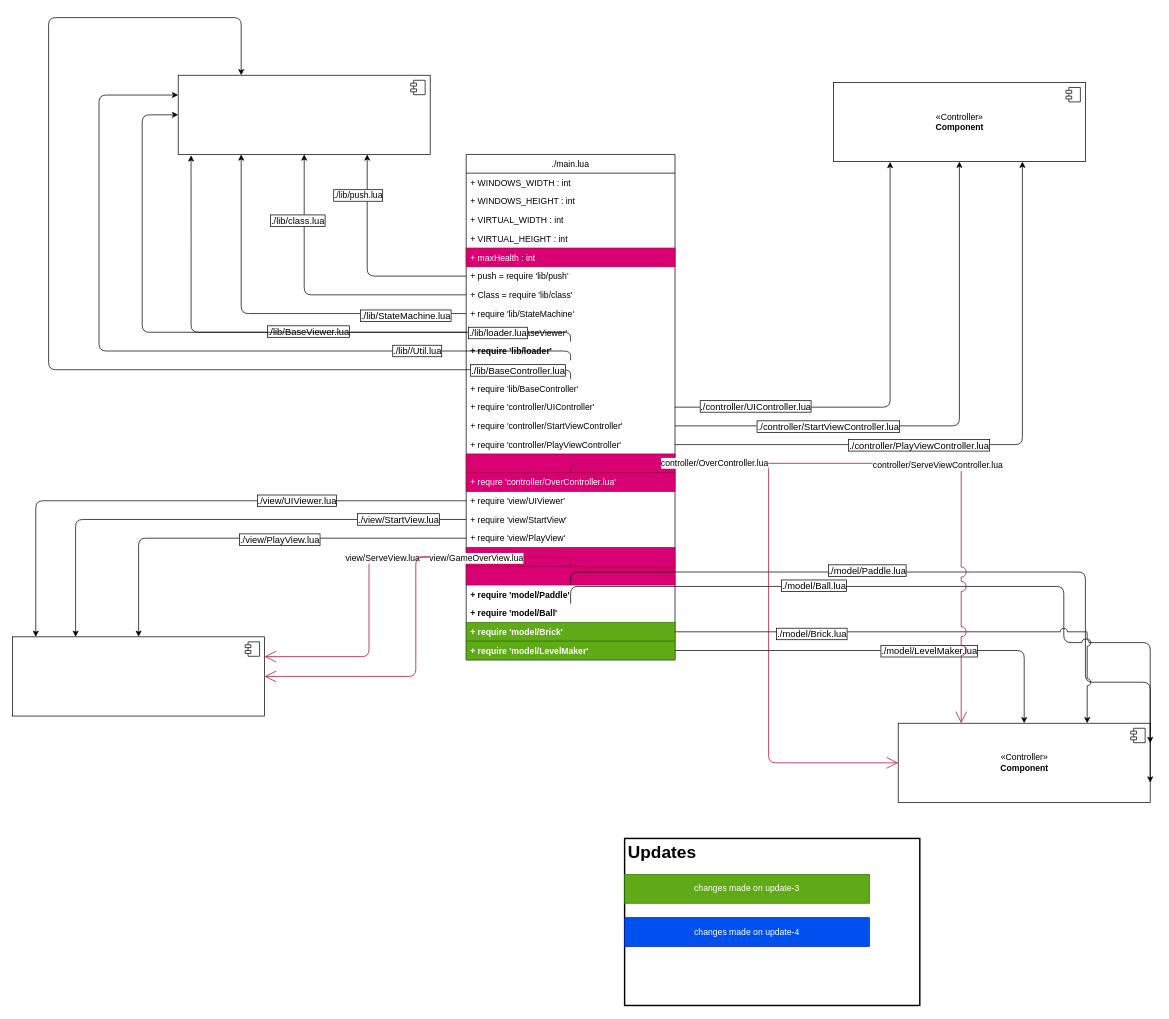
Image size: 1169x1019. Some labels were removed from this diagram. Each missing label, with the centre of its shape:
+ require 'controller/ServeViewController': point 570,463
+ require 'view/GameOverView': point 570,575
+ require 'view/ServeView': point 570,556
«lib» Component: point 303,114
«view» Component: point 138,676
